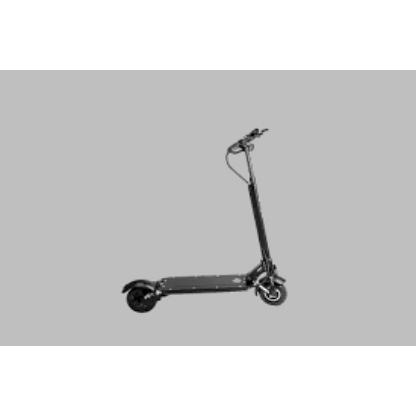bike: (121, 130, 289, 314)
